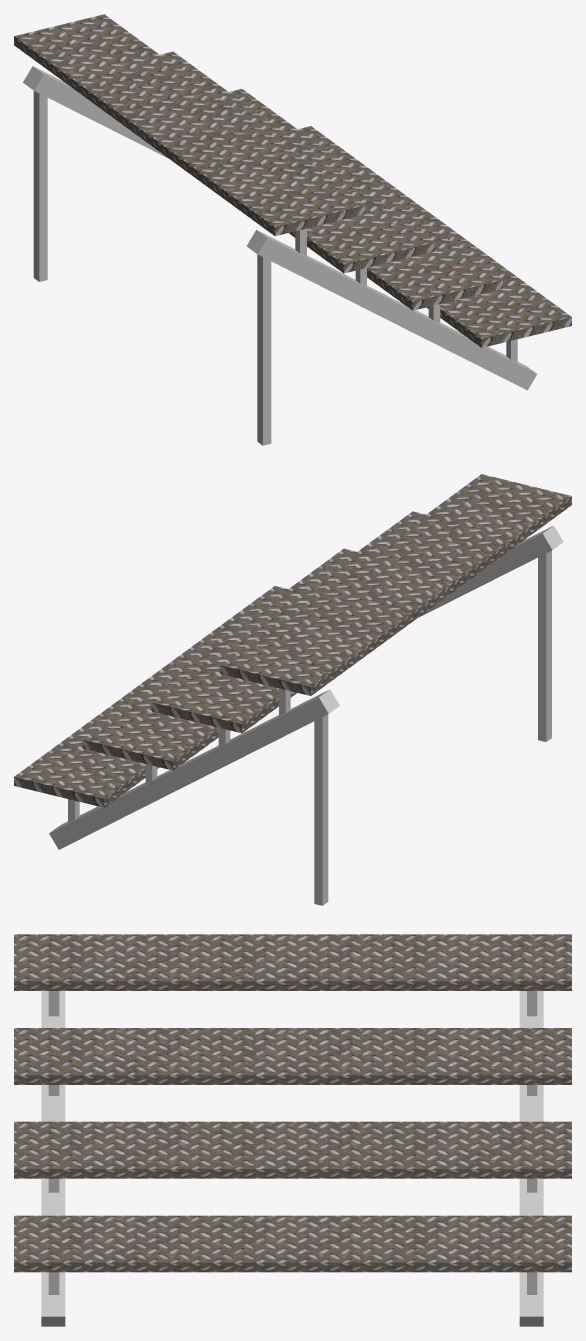
File: stairs04.fbx
The picture shows the model from 3 angles, top to bottom: view 1: azimuth 30°, elevation 25°; view 2: azimuth 150°, elevation 25°; view 3: azimuth 270°, elevation 25°; orthographic projection. The views are drawn at different scales.
Visible parts, largest first — view 1: Mesh Object; view 2: Mesh Object; view 3: Mesh Object.
Part boxes in pixels (x1,y1,x2,y2): Mesh Object: [14, 14, 571, 445]; Mesh Object: [14, 474, 571, 905]; Mesh Object: [14, 934, 571, 1326].
Size of the model in its own units: 1.16 by 0.8706 by 1.73.
